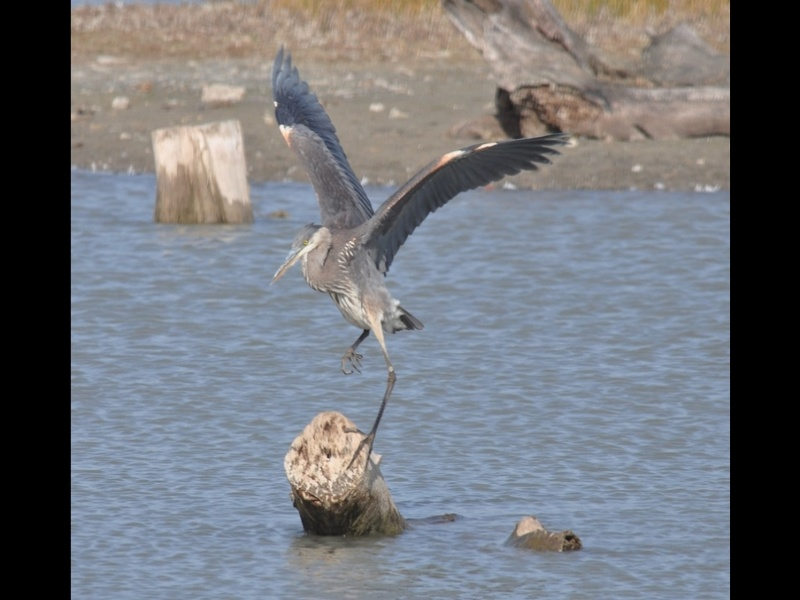heron: (251, 46, 568, 480)
